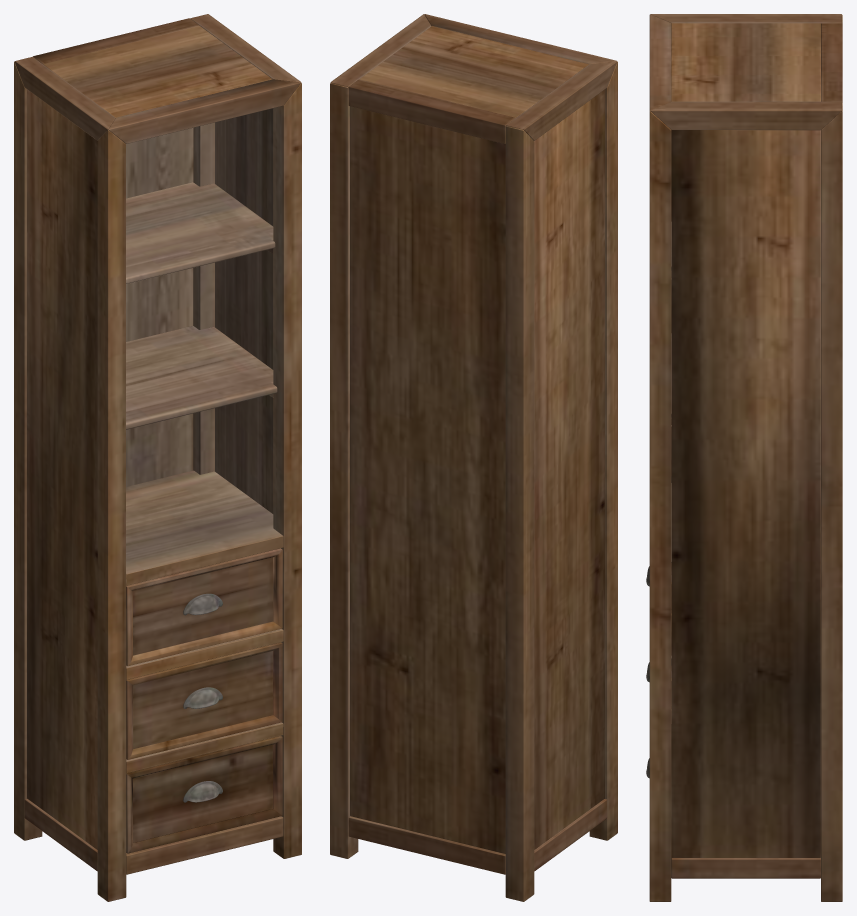
3 views of the same model, side by side, from view 1: azimuth 30°, elevation 25°; view 2: azimuth 150°, elevation 25°; view 3: azimuth 270°, elevation 25° (orthographic). The views are drawn at different scales.
Visible parts, largest first — view 1: RootNode; view 2: RootNode; view 3: RootNode.
Part boxes in pixels (x1,y1,x2,y2): RootNode: [14, 14, 301, 901]; RootNode: [330, 14, 617, 901]; RootNode: [646, 14, 842, 901].
Size of the model in its own units: 0.4996 by 1.9 by 0.4276.
Materials: 1 (1 with a texture image).
